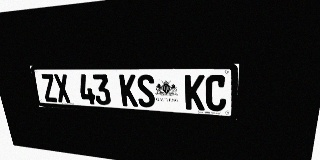3: (92, 74, 111, 105)
4: (77, 74, 96, 104)
C: (205, 75, 227, 112)
K: (185, 75, 205, 111), (119, 74, 138, 107)
S: (136, 74, 156, 108)
X: (53, 74, 71, 103)
Z: (40, 74, 58, 102)
